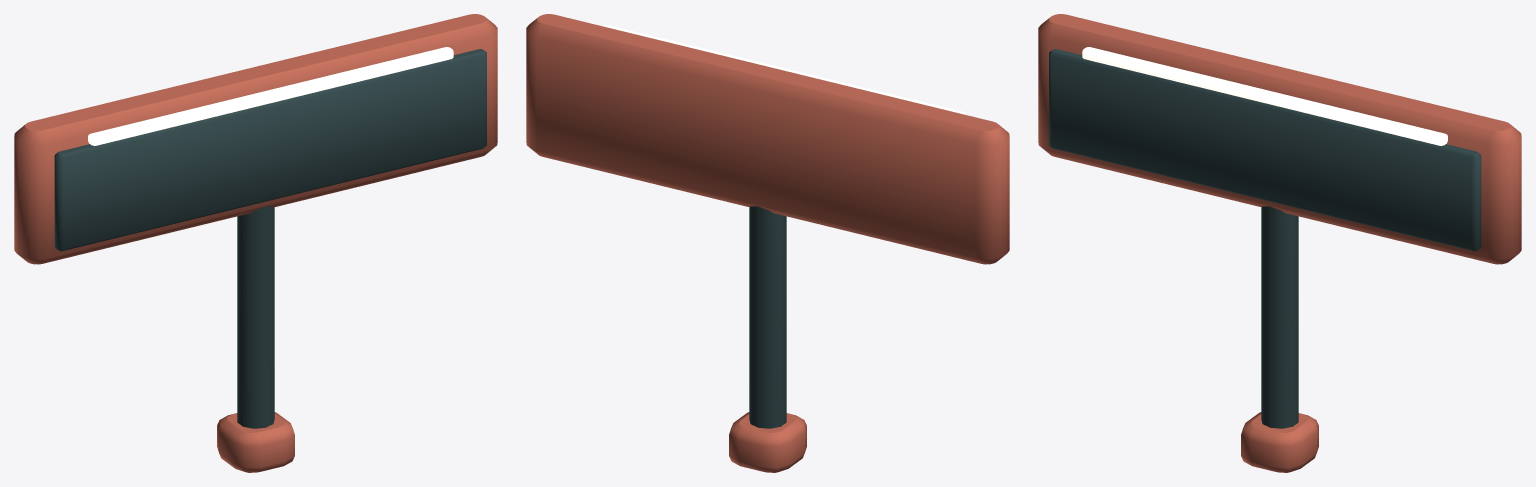
Rendered from sign_5.glb.
3 views of the same model, side by side, from view 1: azimuth 30°, elevation 25°; view 2: azimuth 150°, elevation 25°; view 3: azimuth 330°, elevation 25° (orthographic).
Visible parts, largest first — view 1: Sign; view 2: Sign; view 3: Sign.
Boxes of the visible parts, left/top/right/bottom form: Sign: left=14, top=14, right=497, bottom=472; Sign: left=526, top=14, right=1009, bottom=472; Sign: left=1038, top=14, right=1521, bottom=472.
Size of the model in its own units: 2.88 by 2.24 by 0.3765.
